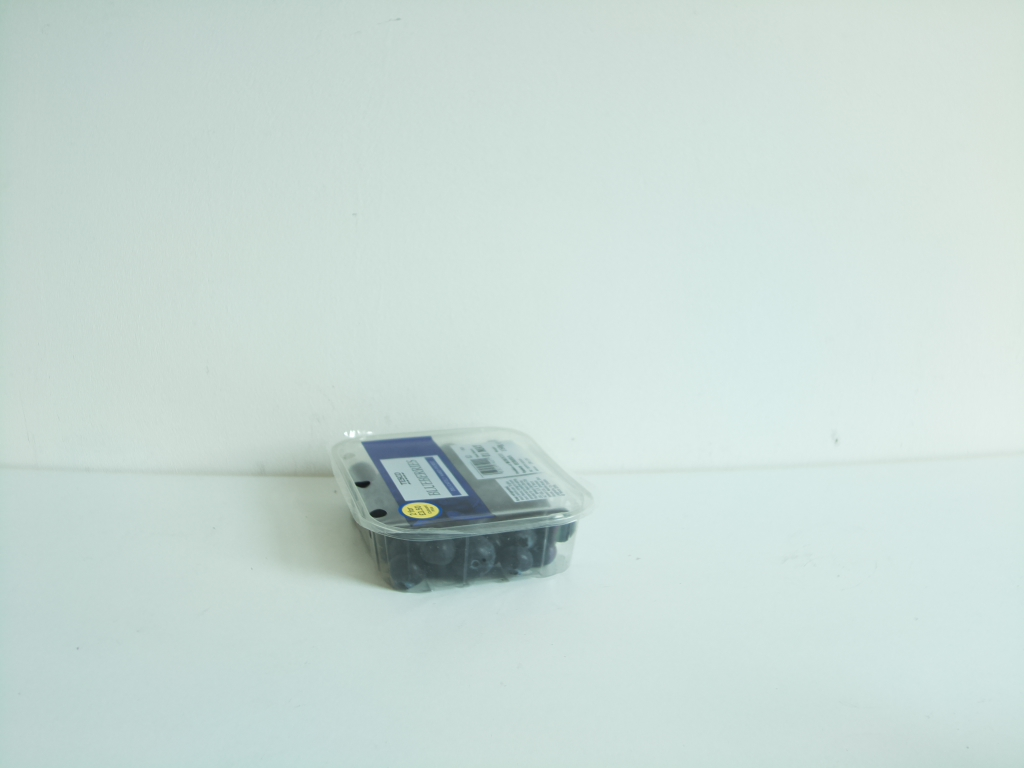soft-fruit: (324, 426, 587, 594)
